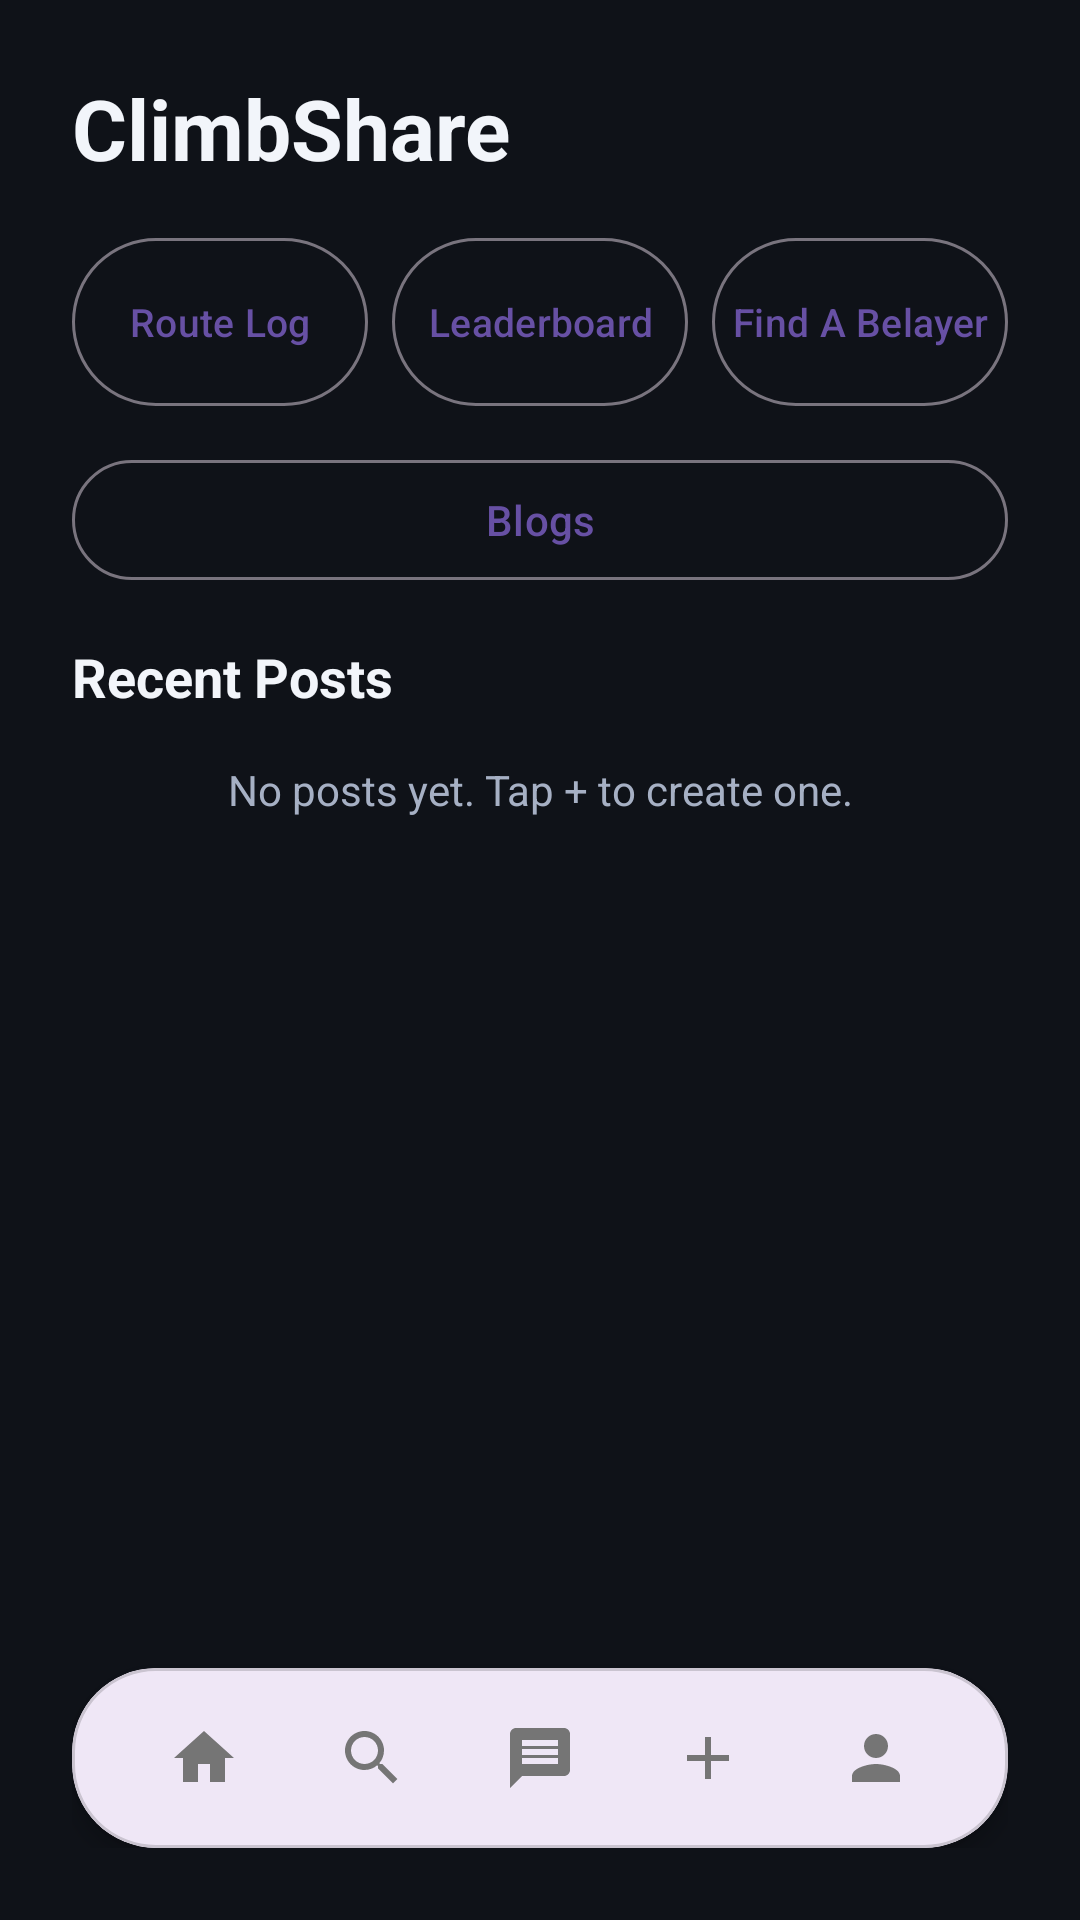

Icons on this 1080w x 1920h Android screen, each with its box as (x1, y1, x2, y2):
Create post: (687, 1737, 729, 1779)
Home: (174, 1731, 234, 1782)
Messages: (510, 1728, 570, 1788)
Open profile: (852, 1734, 900, 1782)
Search: (345, 1731, 397, 1783)
